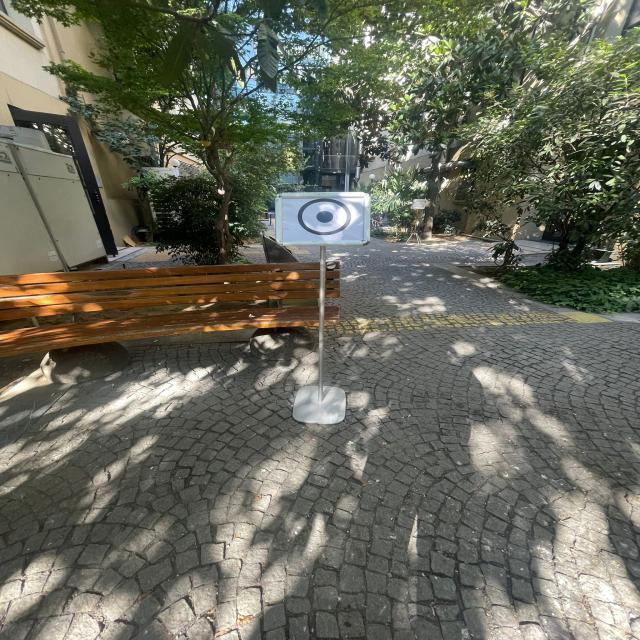Target: (268, 184, 384, 251)
inner: (311, 207, 339, 224)
